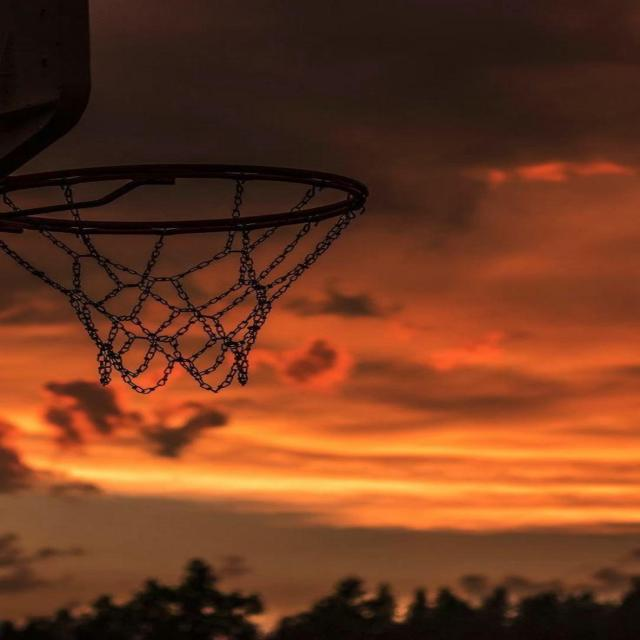hoop: (15, 140, 401, 403)
